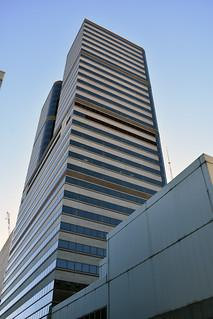building: (6, 16, 168, 318)
